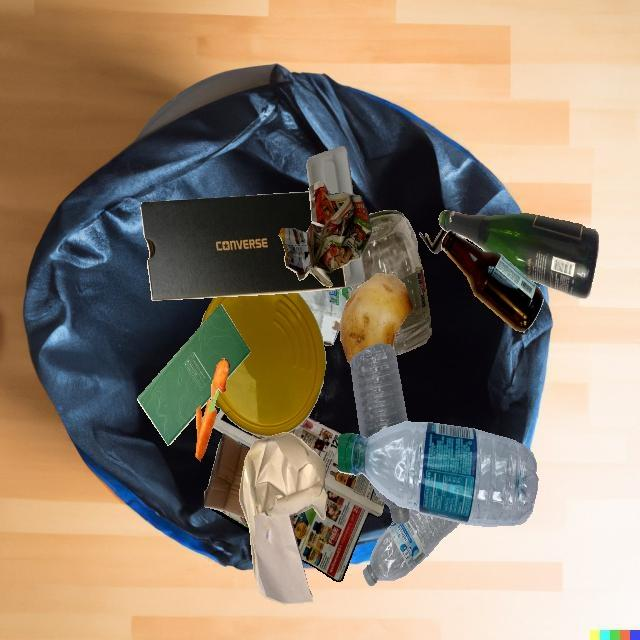biowaste: (340, 273, 413, 365), (195, 358, 230, 461)
cardboard: (141, 191, 346, 300), (204, 433, 250, 518), (297, 286, 352, 346), (443, 234, 485, 251), (419, 231, 443, 254), (420, 231, 439, 237), (439, 228, 448, 234)
glass: (439, 210, 599, 299), (350, 210, 431, 355), (441, 230, 543, 332)
paper: (137, 304, 251, 445), (289, 416, 385, 582), (240, 432, 328, 604), (279, 181, 372, 287), (223, 432, 290, 525)
plastic: (338, 422, 538, 527), (200, 292, 326, 437), (363, 508, 460, 586), (350, 343, 408, 439), (306, 146, 353, 194), (325, 255, 365, 292)
